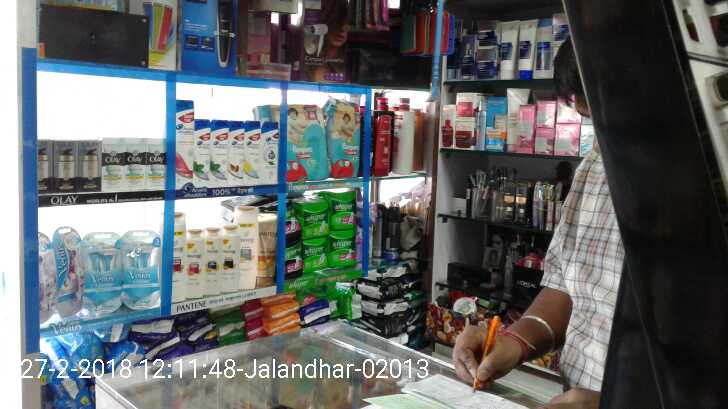venus: (123, 228, 163, 308), (84, 231, 123, 308), (60, 231, 84, 322), (39, 230, 60, 322)
